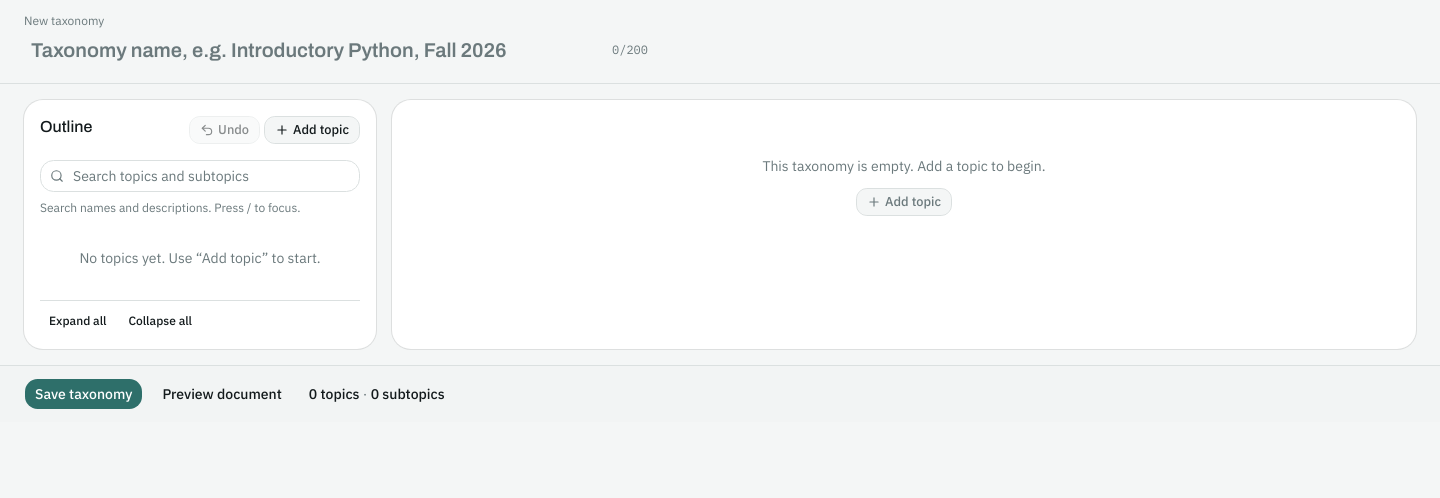
Test: TaxonomyBuilder › will not send an unfinished draft, and says what is missing
Click the button "Save taxonomy": point(84, 394) [24, 378, 143, 410]
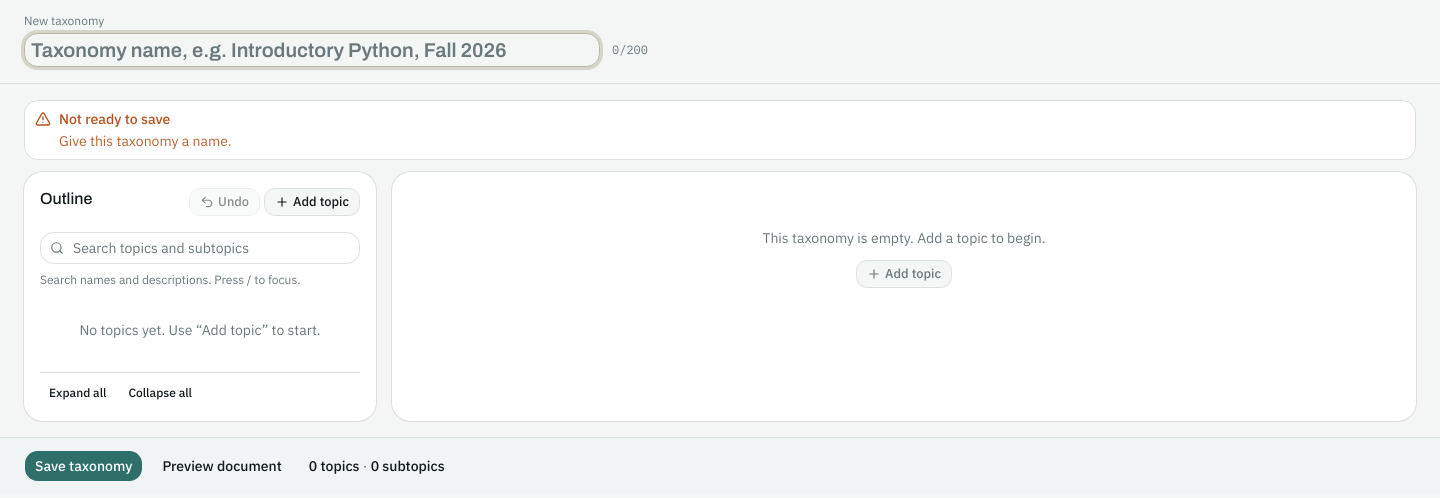
Result: the text "Not ready to save" is shown at [59, 110, 170, 128]
Result: the text "Give this taxonomy a name." is shown at [59, 132, 232, 150]
